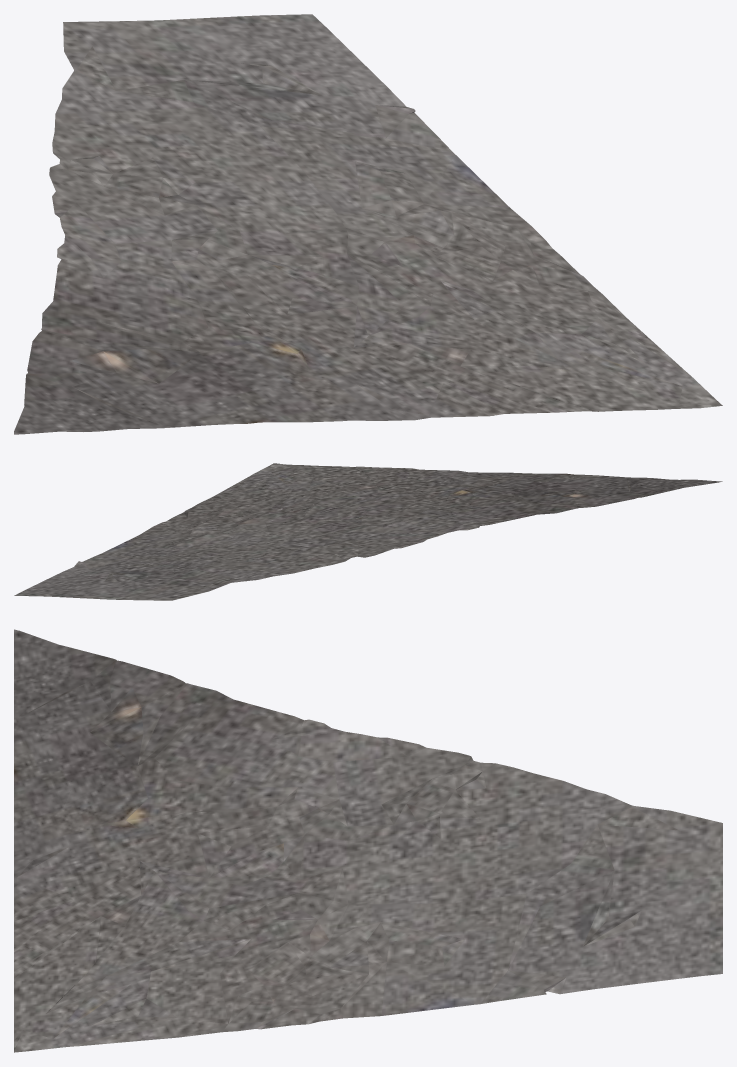
3 views of the same model, one above another, from view 1: azimuth 30°, elevation 25°; view 2: azimuth 150°, elevation 25°; view 3: azimuth 270°, elevation 25° (orthographic). The views are drawn at different scales.
Bounding box in the file's own units: 1.67 × 0.3244 × 1.67.
Materials: 2 (2 with a texture image).
